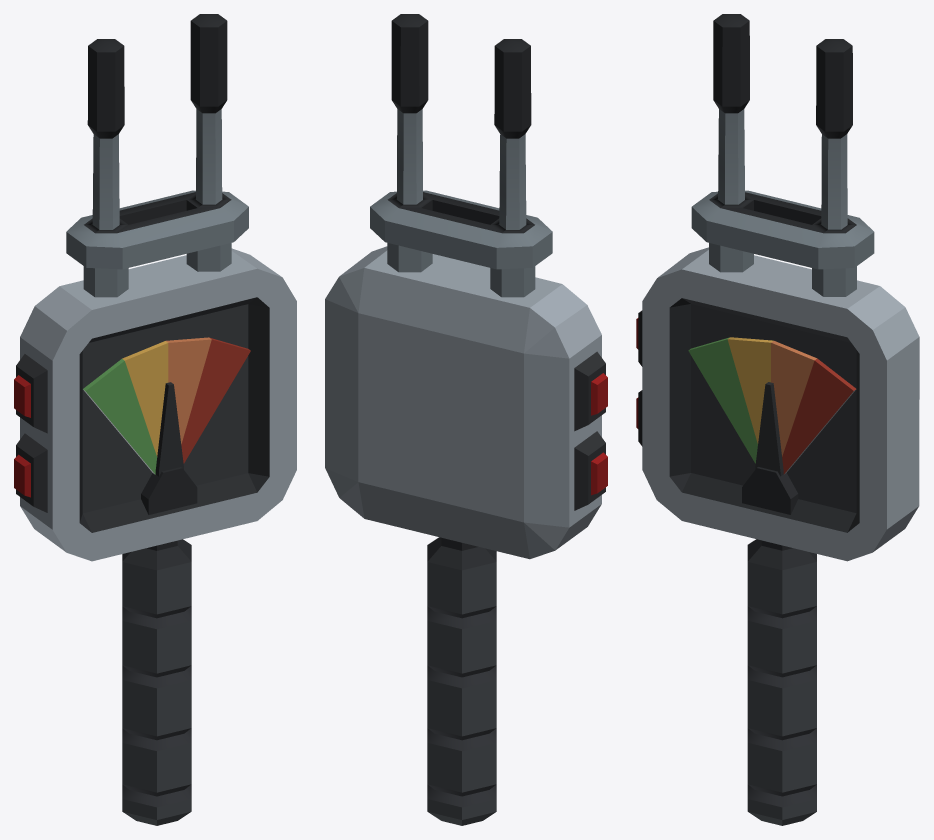
Rendered from SM_Prop_Ghost_Meter_01.fbx.
3 views of the same model, side by side, from view 1: azimuth 30°, elevation 25°; view 2: azimuth 150°, elevation 25°; view 3: azimuth 330°, elevation 25° (orthographic).
Parts seen in each view (by area): view 1: SM_Prop_Ghost_Meter_01; view 2: SM_Prop_Ghost_Meter_01; view 3: SM_Prop_Ghost_Meter_01.
Part boxes in pixels (x1,y1,x2,y2): SM_Prop_Ghost_Meter_01: (14, 14, 296, 825); SM_Prop_Ghost_Meter_01: (325, 14, 607, 825); SM_Prop_Ghost_Meter_01: (636, 14, 919, 825).
Bounding box in the file's own units: 12.48 × 35.92 × 3.44.
